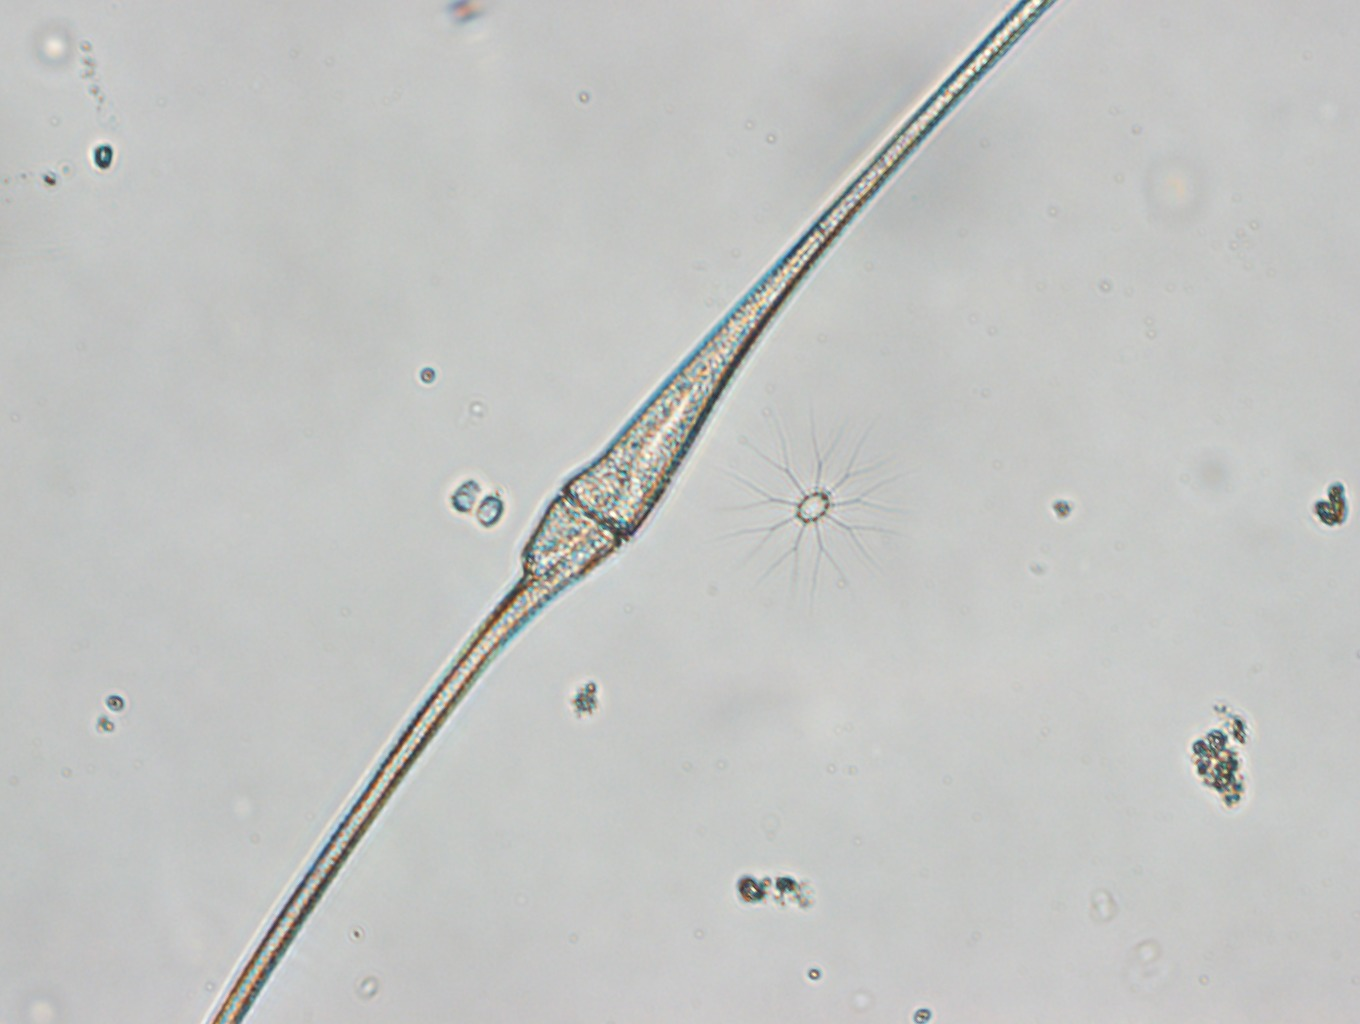bacteriastrum: (718, 406, 910, 602)
ceratium fusus: (211, 1, 1054, 1024)
